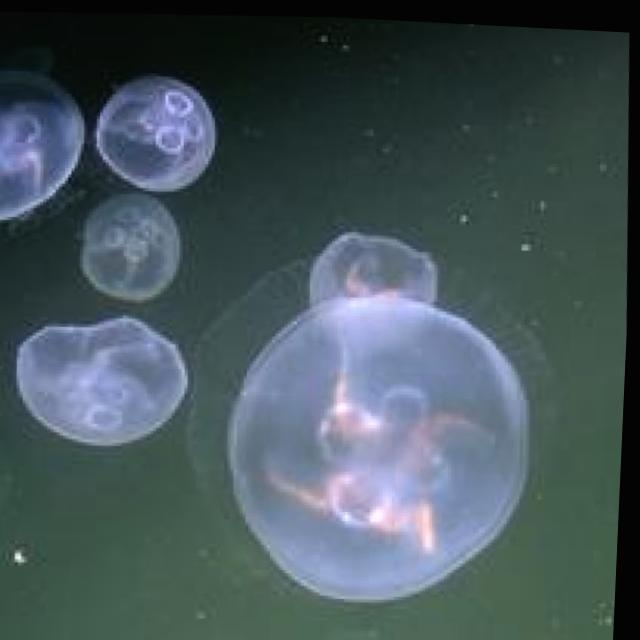Box-jellyfish: (15, 303, 198, 451), (94, 64, 226, 194), (0, 60, 94, 229), (78, 185, 192, 302)
Jellyfish: (218, 213, 548, 609)
